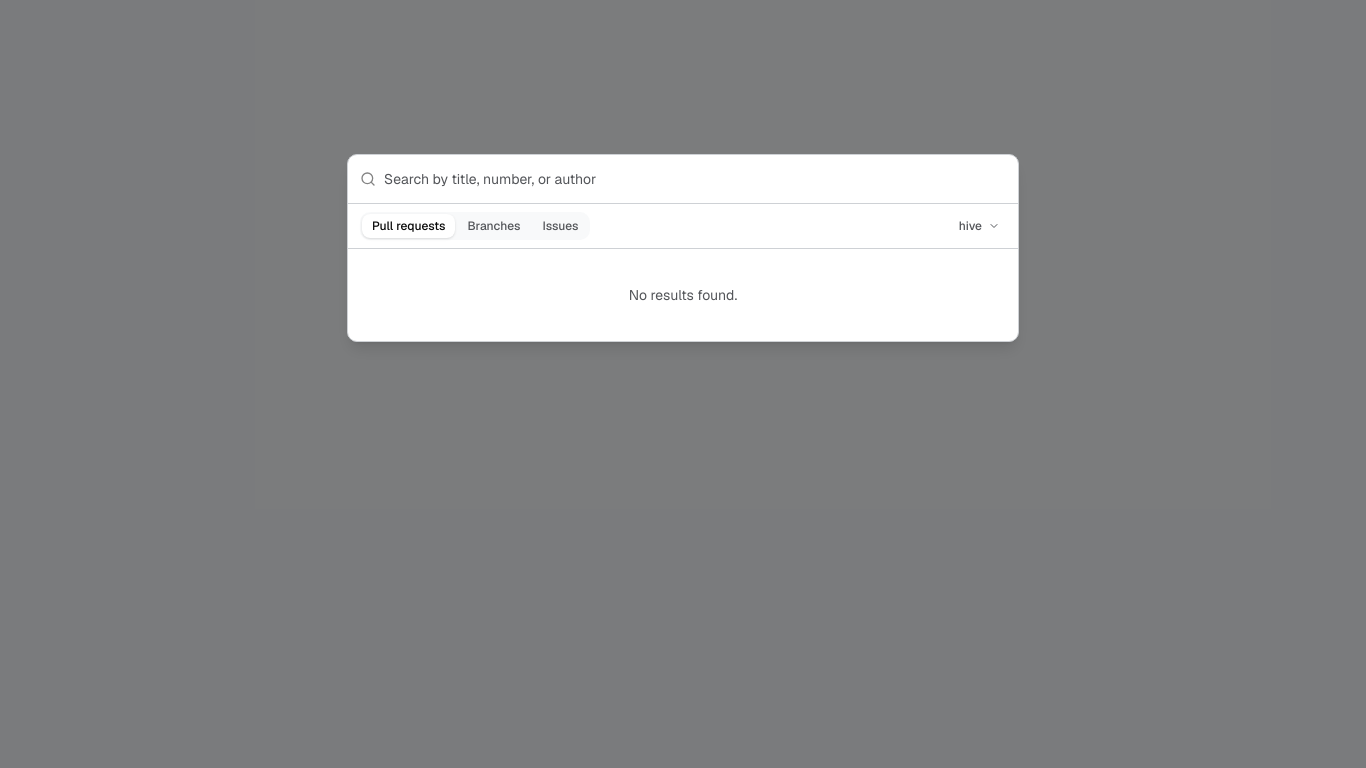
NewWorkspaceFromDialog › shows a real error on the branches tab instead of 'No results found.'
The image size is (1366, 768).
What coordinates should you click on to do the following:
click the button "Branches"
I would click on:
 (494, 226)
Its box is [458,214,530,238].
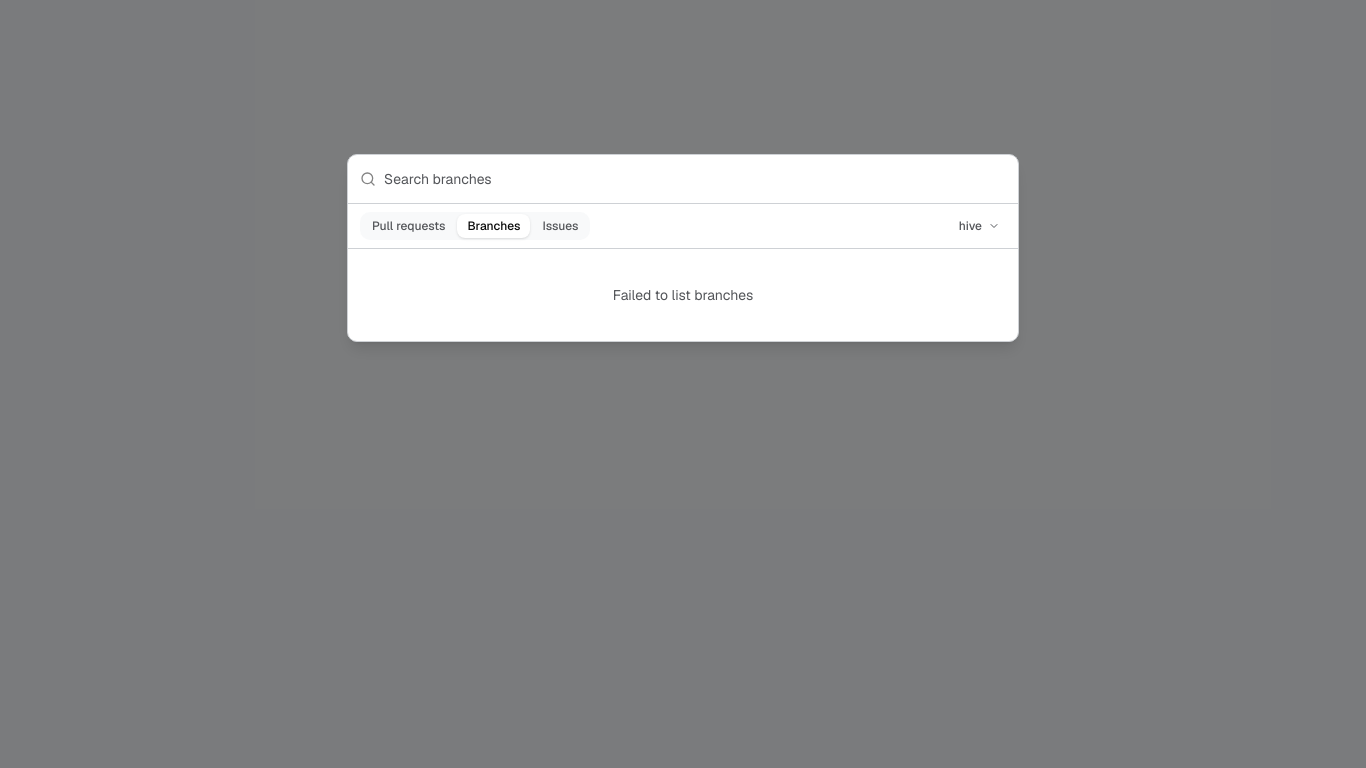
Expected: the text "Failed to list branches" is shown, [613,286,753,304]
Expected: the text "No results found." is gone
